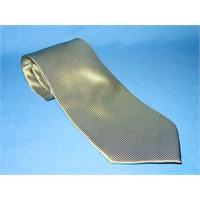tie: (20, 36, 182, 164)
